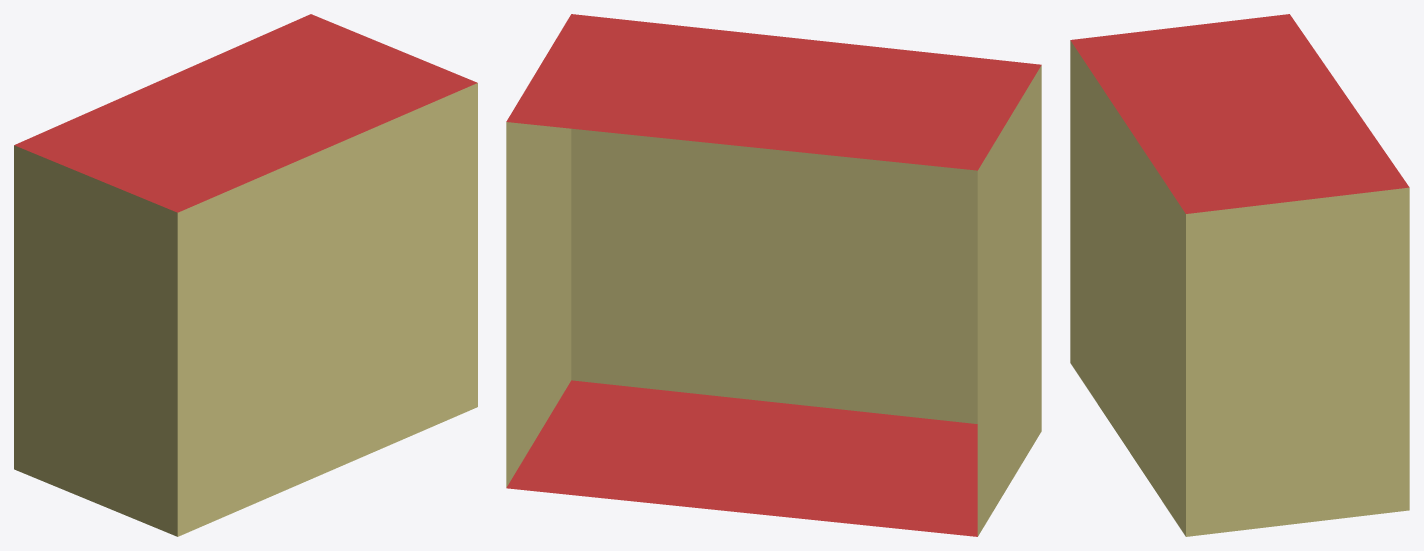
3 views of the same model, side by side, from view 1: azimuth 30°, elevation 25°; view 2: azimuth 150°, elevation 25°; view 3: azimuth 270°, elevation 25° (orthographic). The views are drawn at different scales.
Bounding box in the file's own units: 9.24 × 6.62 × 6.95.
